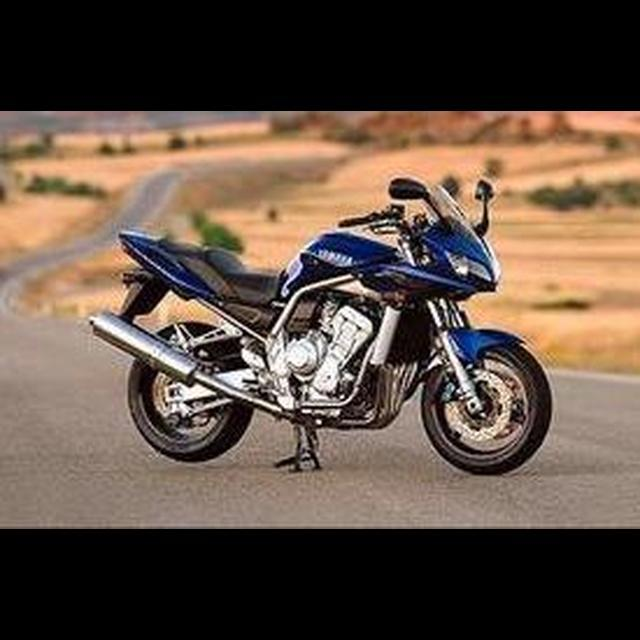motorcycle: (87, 171, 558, 483)
